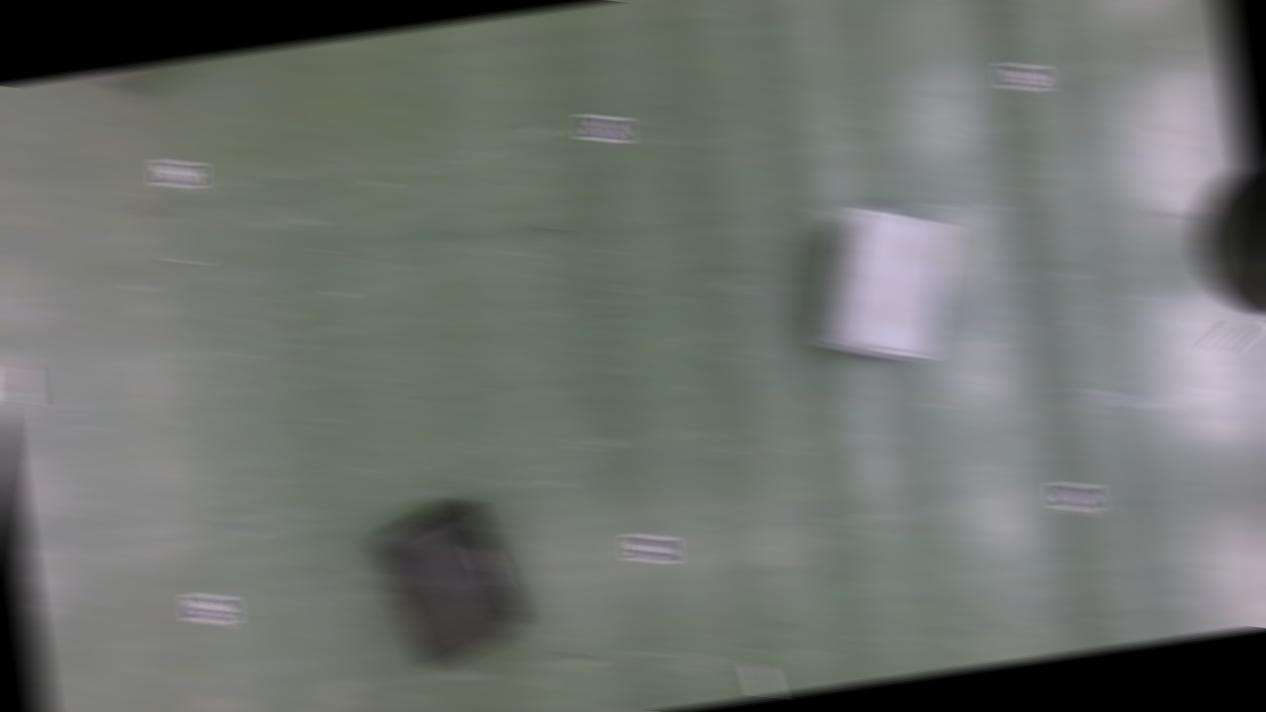probes: (1206, 320, 1260, 354), (8, 362, 36, 404), (750, 664, 778, 698)
rako: (797, 196, 970, 376), (366, 496, 530, 677)
